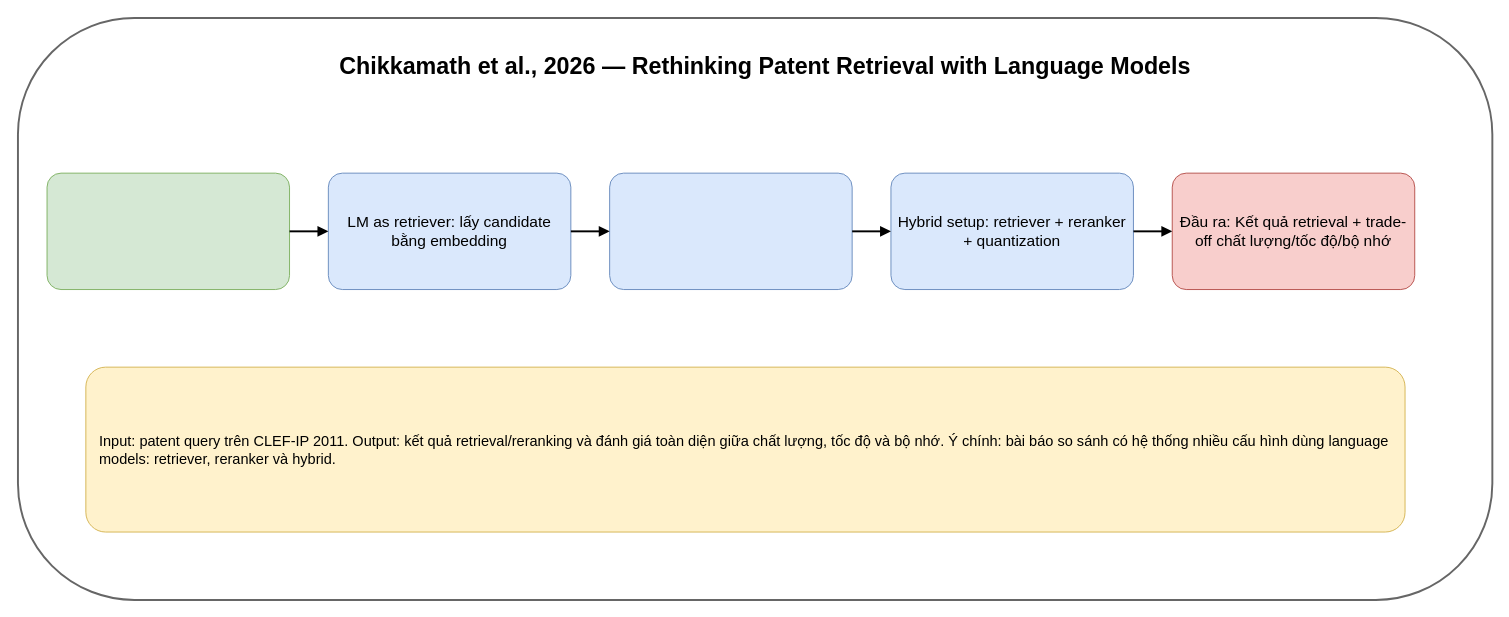
Image size: 1509x617. Some labels were removed from this diagram. Each missing label, with the centre of its shape:
"LM as reranker: chấm lại candidate" belongs at point (730, 231).
"Đầu vào: Patent query trên CLEF-IP 2011" belongs at point (168, 231).
